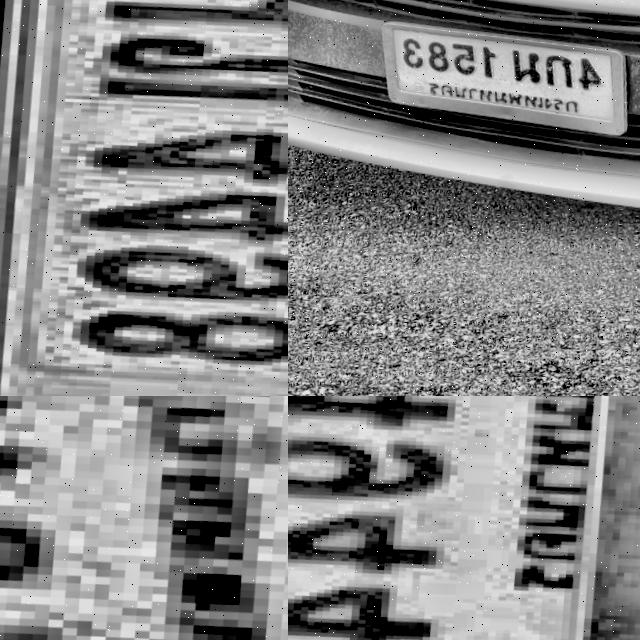license-plate: (0, 0, 288, 396), (288, 396, 640, 640), (0, 396, 288, 640), (450, 0, 627, 185)
